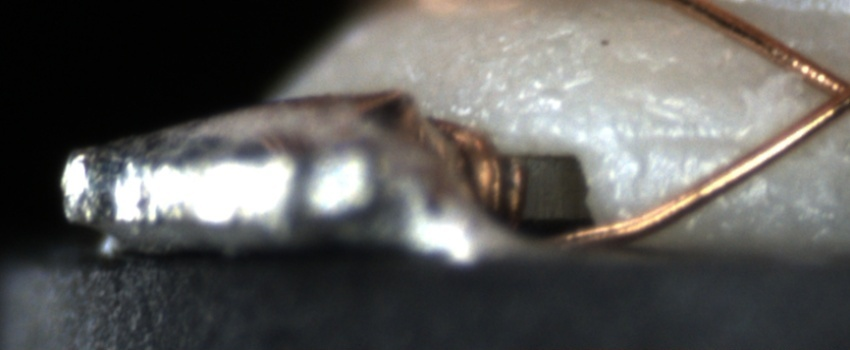CL: (802, 53, 850, 129)
DL: (617, 109, 752, 167)
TE: (403, 108, 532, 236)
